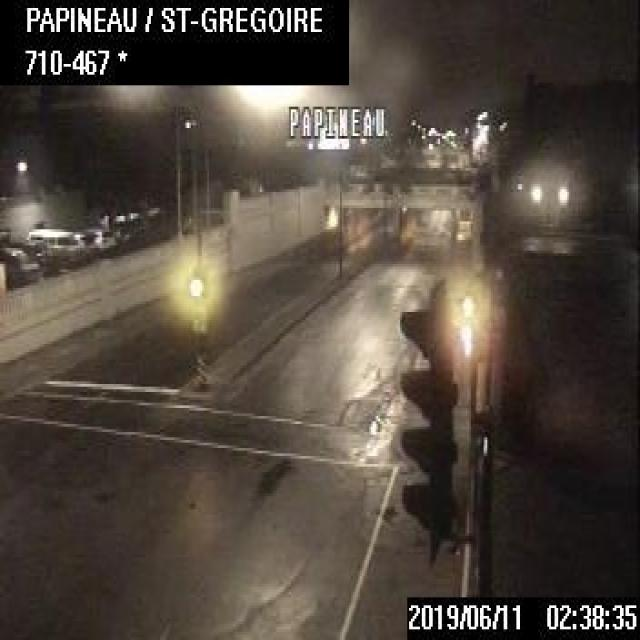vehicle: (24, 222, 86, 264), (86, 222, 115, 254)
